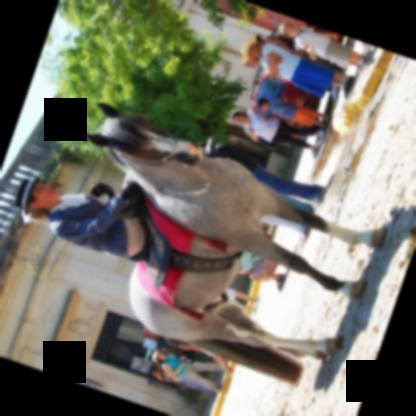handbag: (244, 126, 277, 150), (164, 371, 186, 390), (161, 358, 196, 364)
